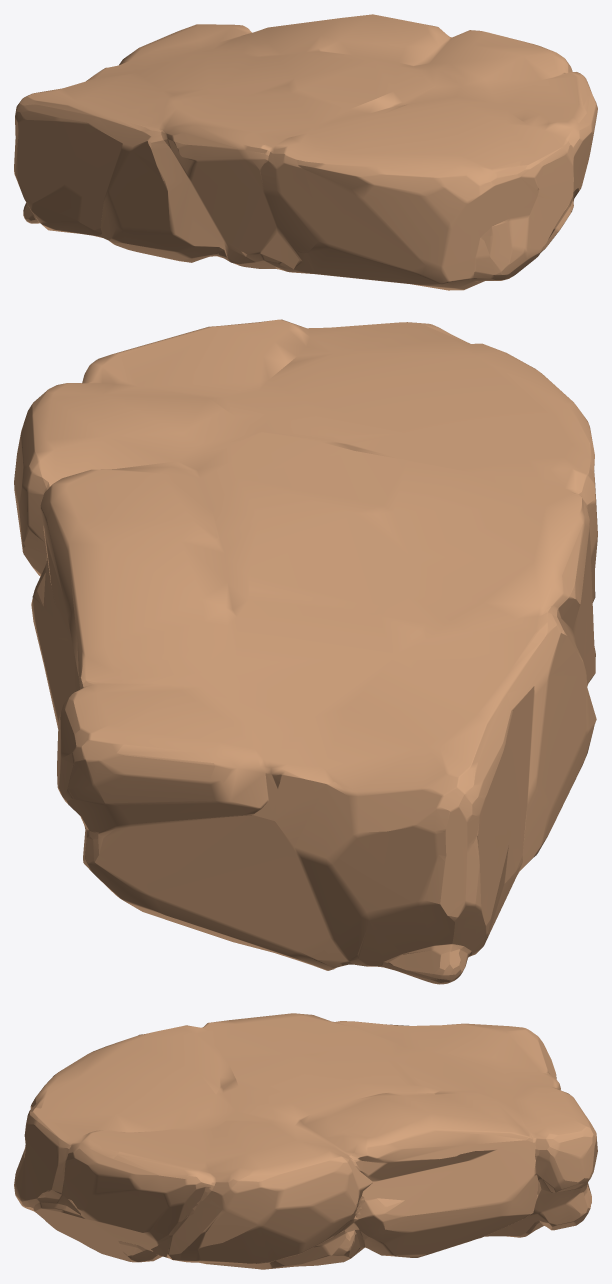
3 renders of one model, top to bottom at view 1: azimuth 30°, elevation 25°; view 2: azimuth 150°, elevation 25°; view 3: azimuth 270°, elevation 25°, orthographic. The views are drawn at different scales.
Visible parts, largest first — view 1: Mesh_83_LOD0; view 2: Mesh_83_LOD0; view 3: Mesh_83_LOD0.
Boxes of the visible parts, x1,y1,x2,y2 form: Mesh_83_LOD0: (14,14,597,290); Mesh_83_LOD0: (14,319,597,984); Mesh_83_LOD0: (14,1013,597,1269).
Size of what is drawn, in the model's own units: 2455 by 1054 by 2949.
